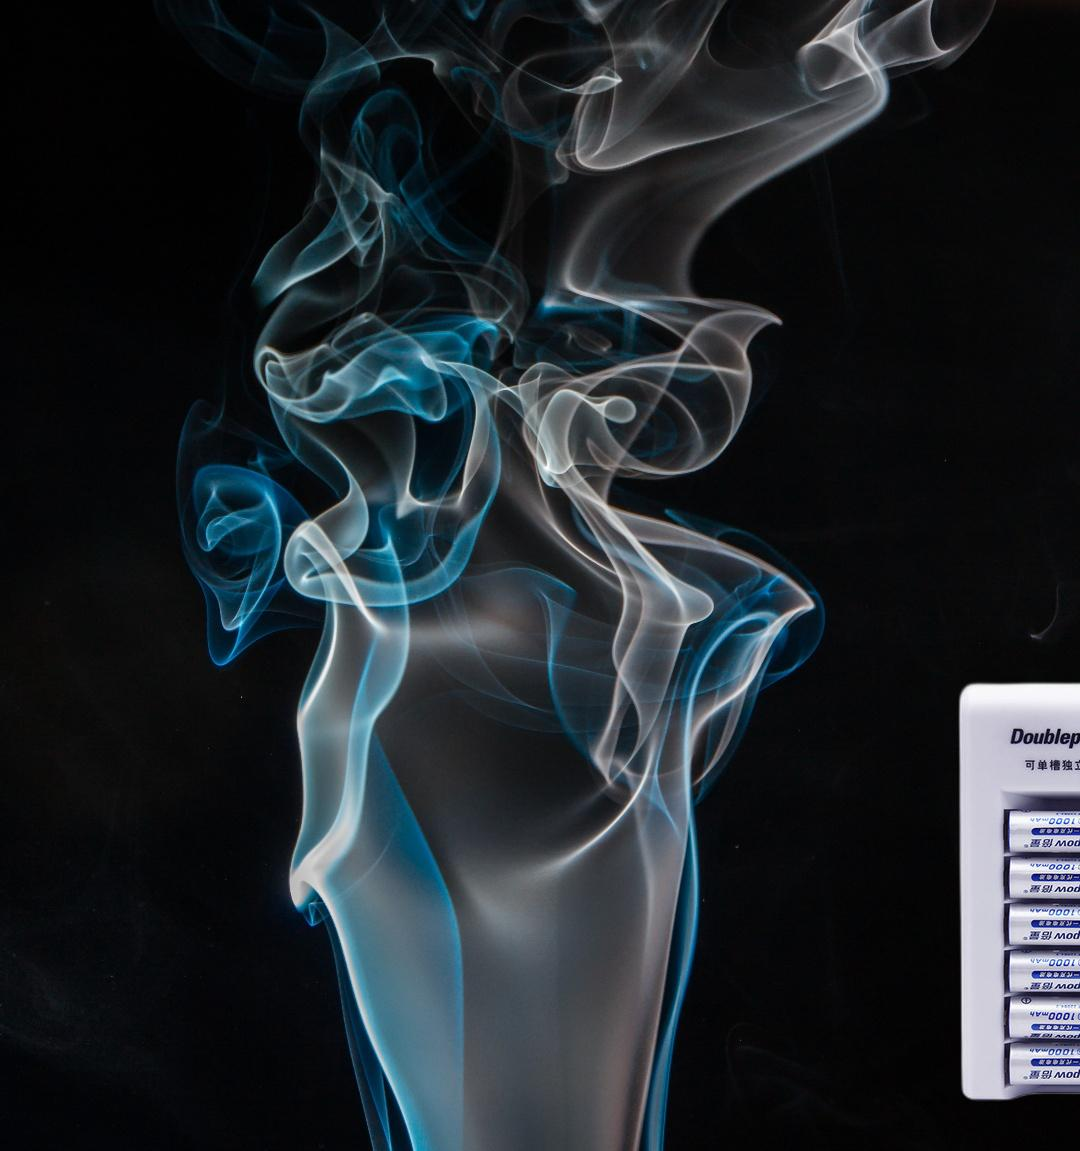battery: (953, 676, 1080, 1106)
